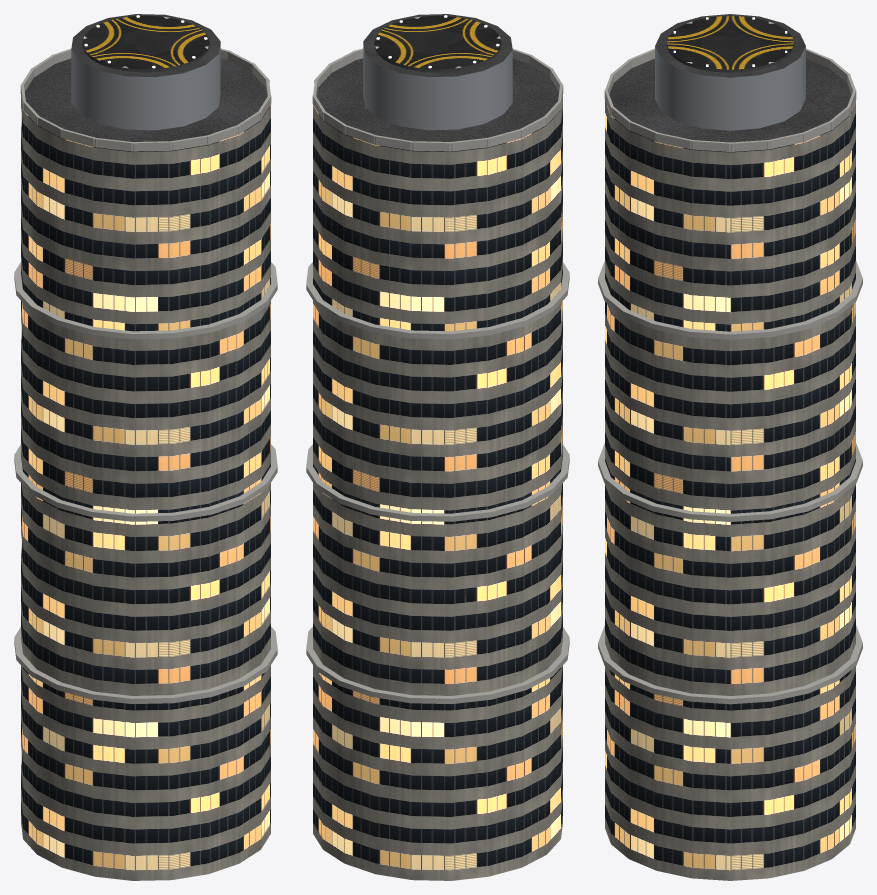
Rendered from building_03.glb.
3 renders of one model, left to right at view 1: azimuth 30°, elevation 25°; view 2: azimuth 150°, elevation 25°; view 3: azimuth 270°, elevation 25°, orthographic.
Visible parts, largest first — view 1: Render; view 2: Render; view 3: Render.
Boxes of the visible parts, x1,y1,x2,y2 form: Render: (14, 14, 277, 880); Render: (306, 14, 569, 880); Render: (598, 14, 862, 880).
Size of the model in its own units: 31.62 by 104 by 31.62.
Materials: 7 (3 with a texture image).
